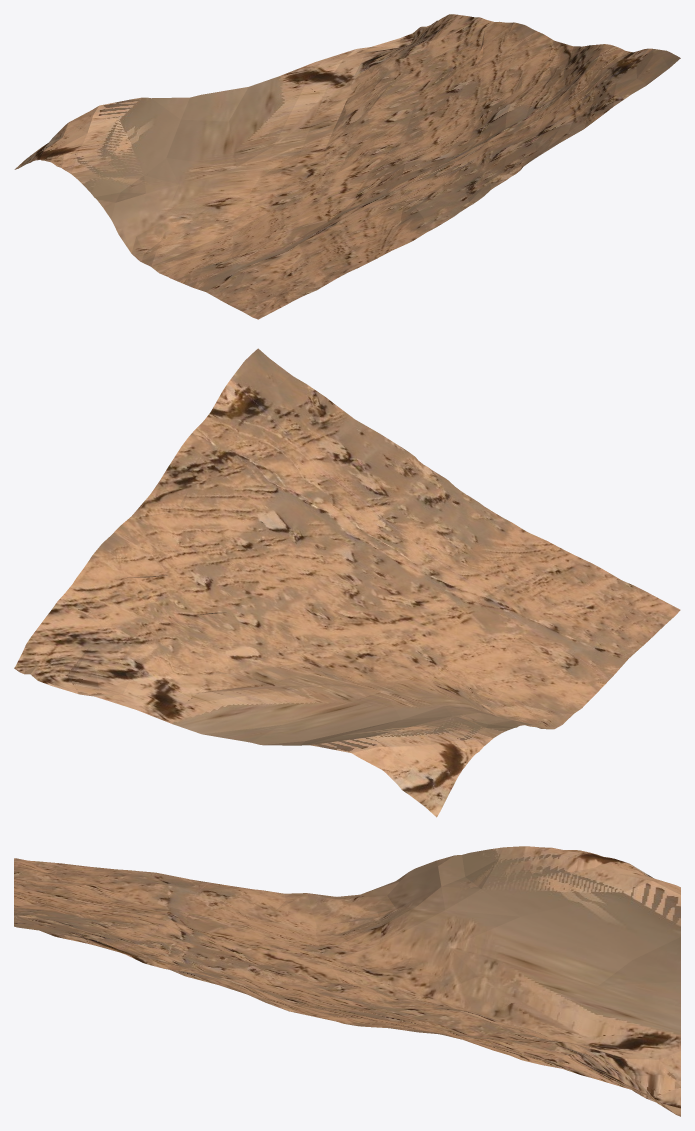
The picture shows the model from 3 angles, top to bottom: view 1: azimuth 30°, elevation 25°; view 2: azimuth 150°, elevation 25°; view 3: azimuth 270°, elevation 25°; orthographic projection. The views are drawn at different scales.
Size of the model in its own units: 1.04 by 0.4424 by 1.04.
Materials: 2 (2 with a texture image).
